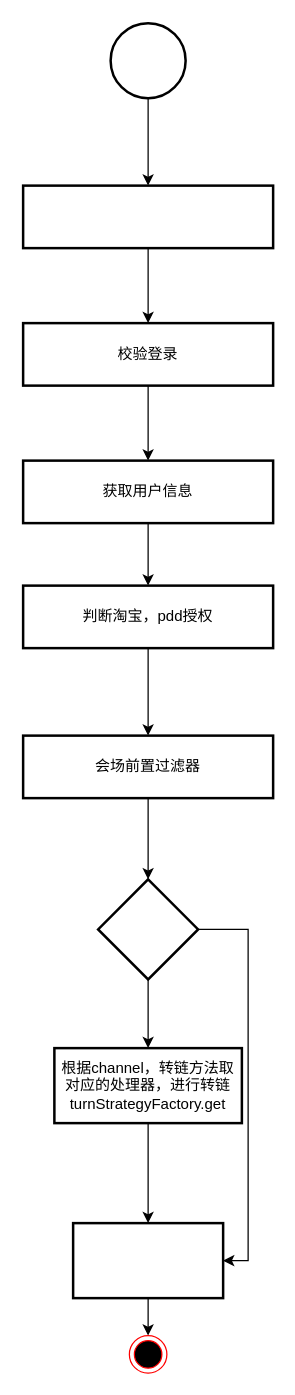
The diagram is 295 pixels wide and 1395 high, and some of its shapes have lost their labels. The shapes that lost their labels are listed below. From the top down, each one's centre as x and y in pixels, then its label:
At [147,216]: "请求接口:/api/goods/turn/union".
At [147,929]: "过滤".
At [147,1260]: "返回".
